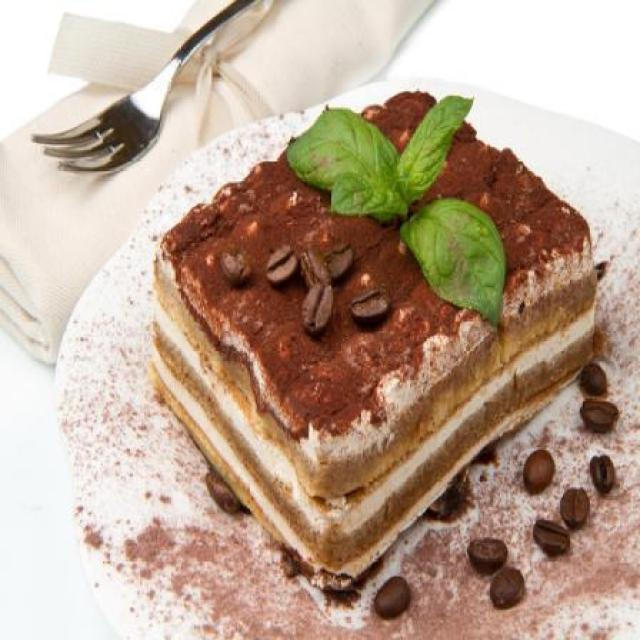Tiramisu: (147, 82, 616, 569)
